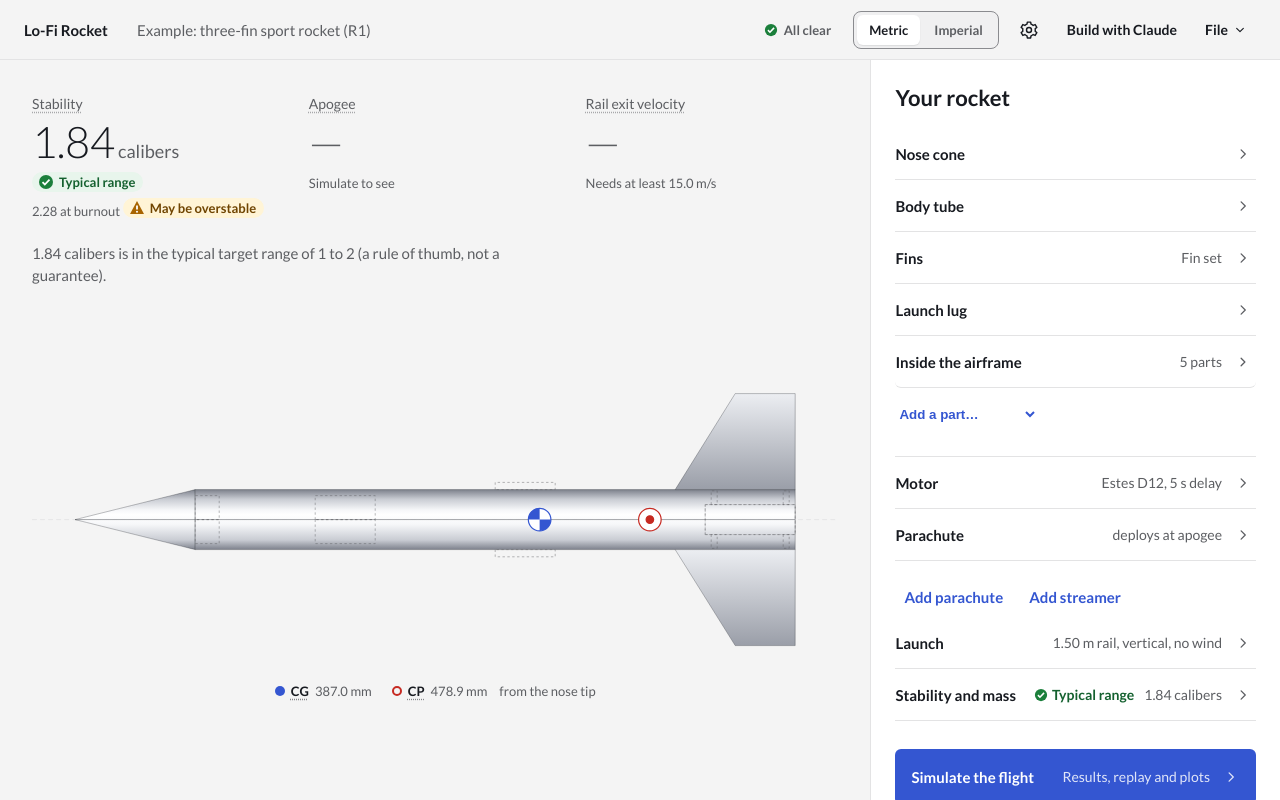
App (plan 0012) › Settings has the appearance and the glossary; the theme follows the system until chosen
The width and height of the screenshot is (1280, 800).
Click the button named "Settings": (1029, 30) [1011,12,1047,48]
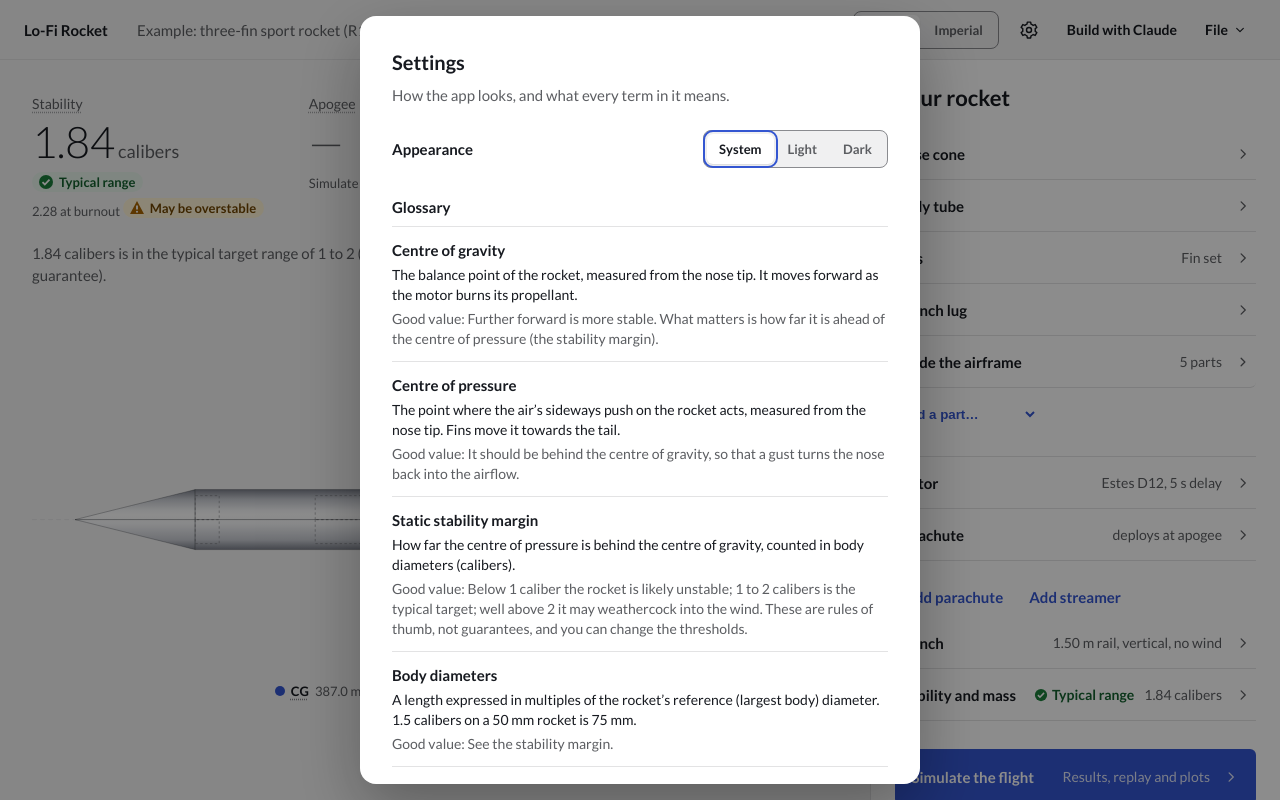
Expected: the text "Static stability margin" is shown, [392,511,538,529]
Click the radio button labelled "Dark": (858, 149) [843,141,872,157]
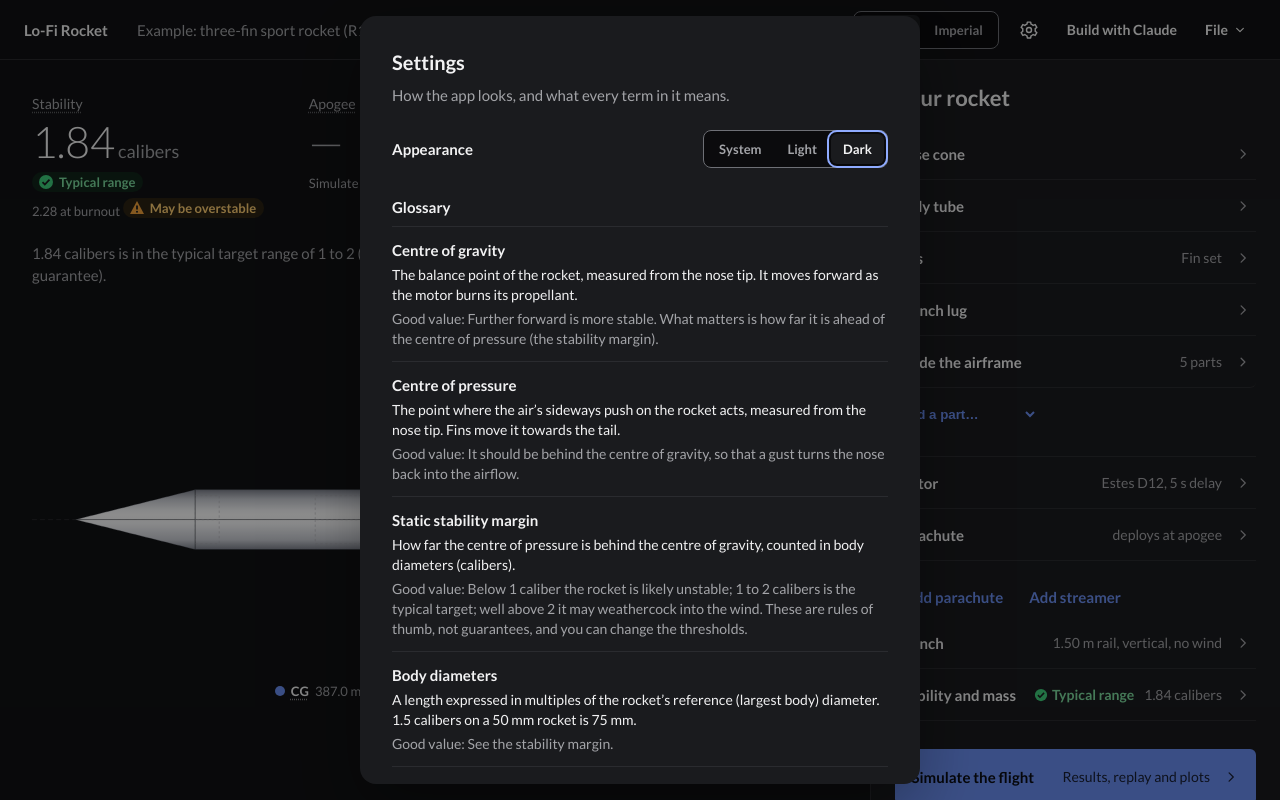
Click the radio button labelled "System": (740, 149) [719,141,762,157]
(page scrolled)
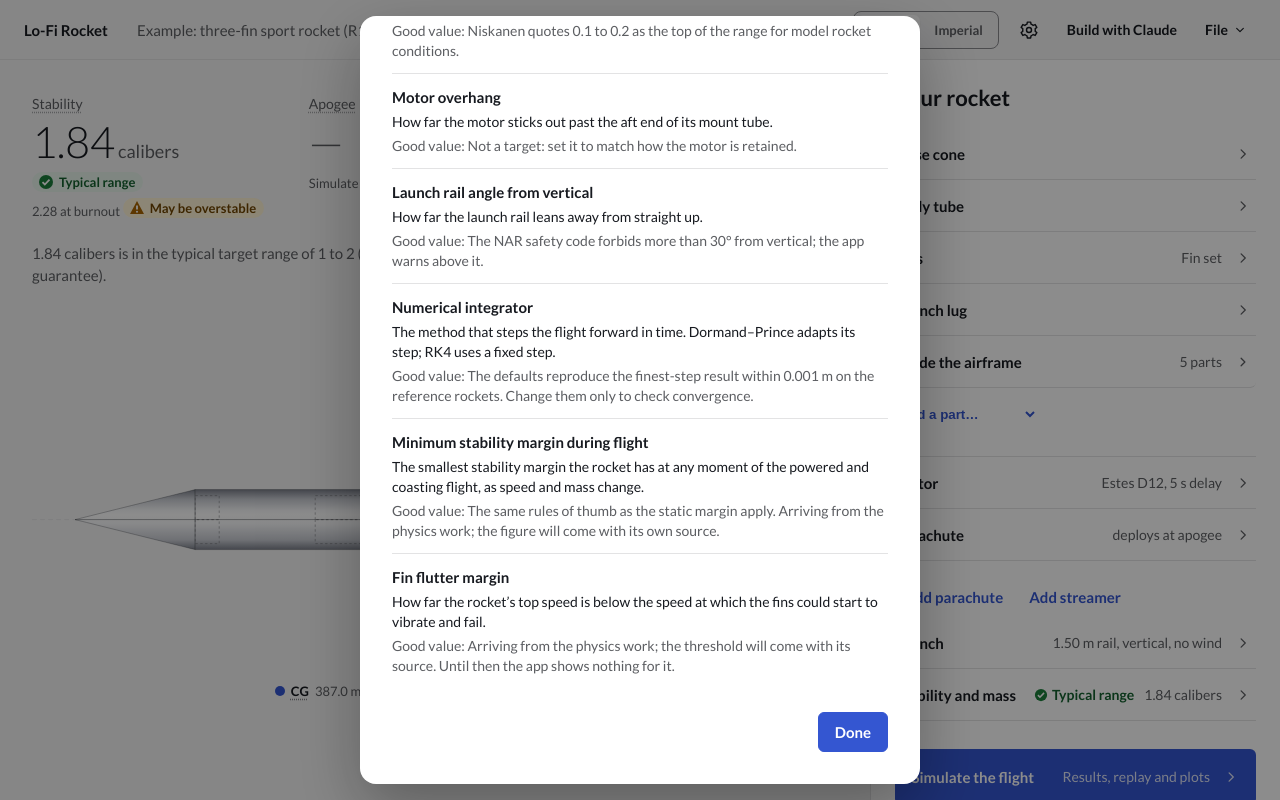
Click the button "Done": (853, 732) [818,712,888,752]
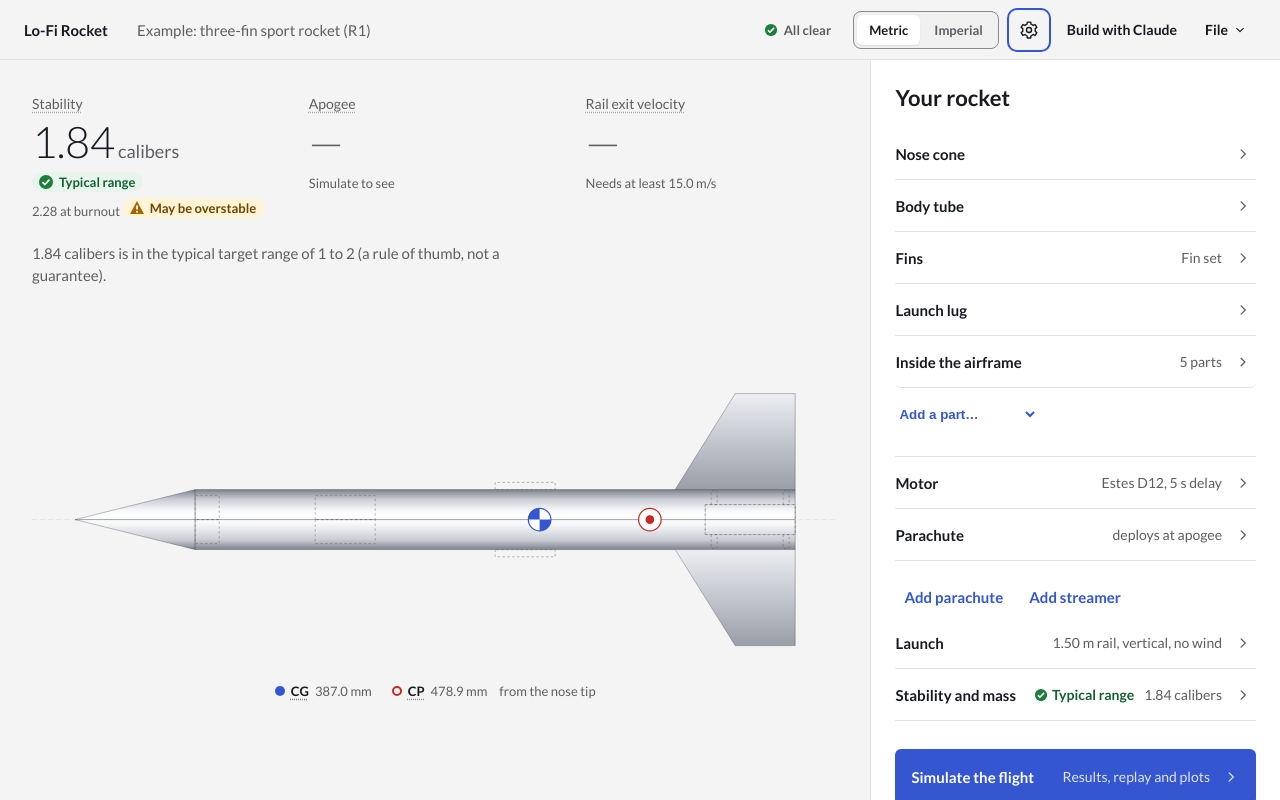
Expected: the dialog is gone
